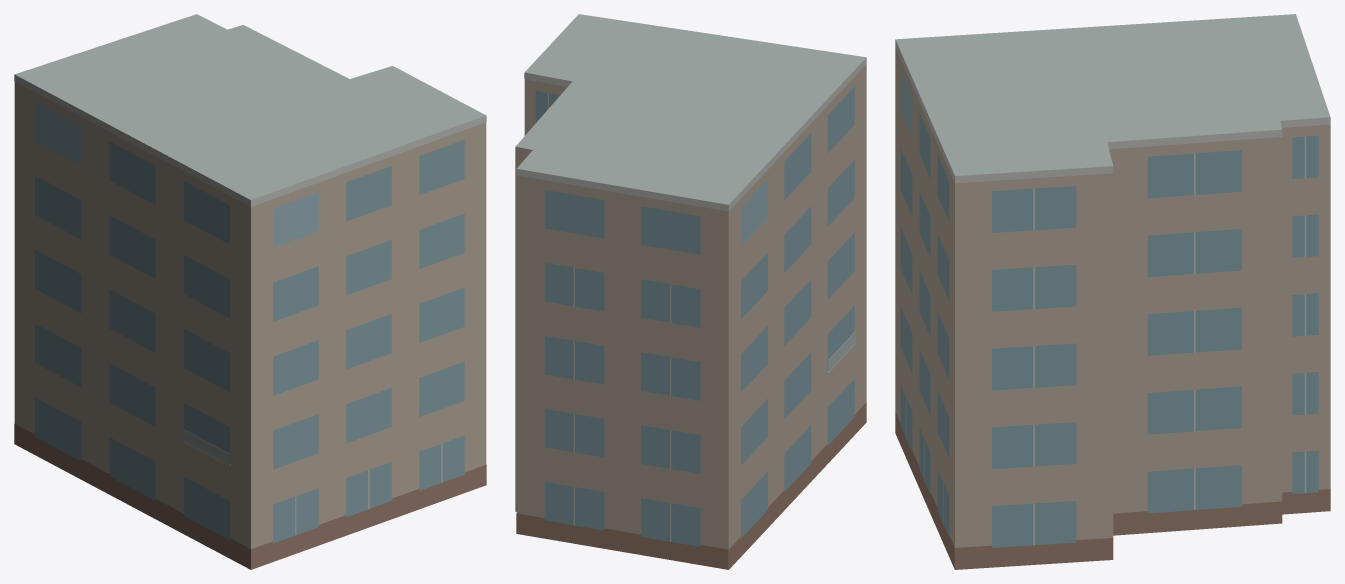
Rendered from survey-upis-32967847.glb.
The picture shows the model from 3 angles, left to right: view 1: azimuth 30°, elevation 25°; view 2: azimuth 150°, elevation 25°; view 3: azimuth 270°, elevation 25°; orthographic projection. The views are drawn at different scales.
Parts seen in each view (by area): view 1: survey-upis-32967847.tmp; view 2: survey-upis-32967847.tmp; view 3: survey-upis-32967847.tmp.
Part boxes in pixels (left/top/right/bottom): survey-upis-32967847.tmp: left=14, top=14, right=486, bottom=569; survey-upis-32967847.tmp: left=515, top=14, right=866, bottom=569; survey-upis-32967847.tmp: left=895, top=14, right=1330, bottom=569.
Size of the model in its own units: 11.8 by 13.35 by 13.39.
